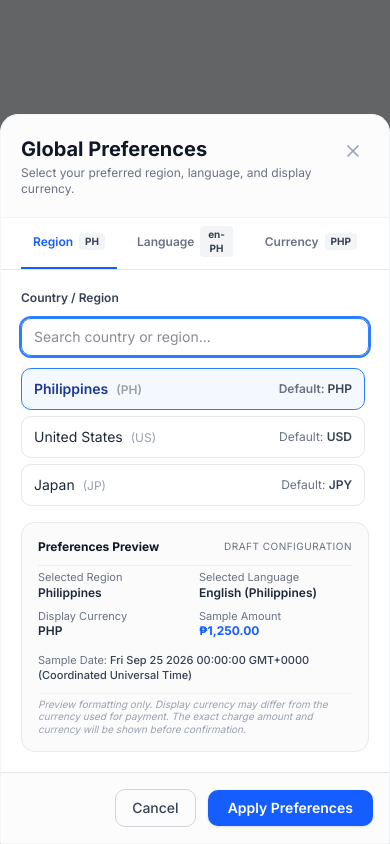
Test: GLCC-P2A — Global Preferences UI Foundation › 2. Control Independence & Financial Boundaries › 2.1. Changing language does not alter country or display currency
// Switch to Language tab
Click the tab "Language en-PH" at (185, 248), box [125,226,245,269]
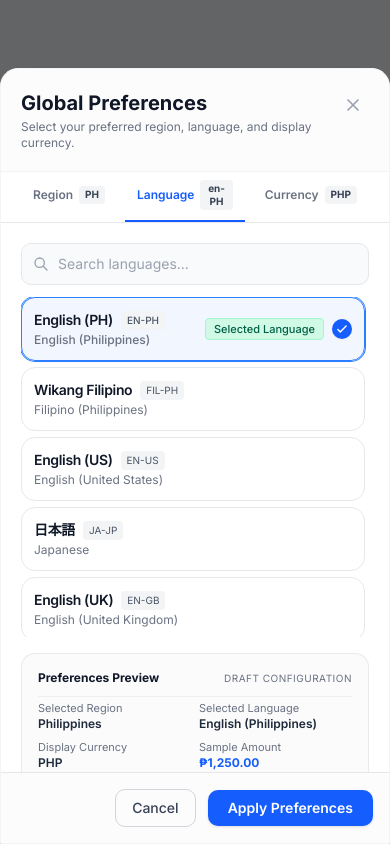
// Select 'Filipino (Philippines)'
Click the radio button labelled "Wikang Filipino fil-PH Filipino (Philippines)" at (83, 390), box [21,367,365,431]
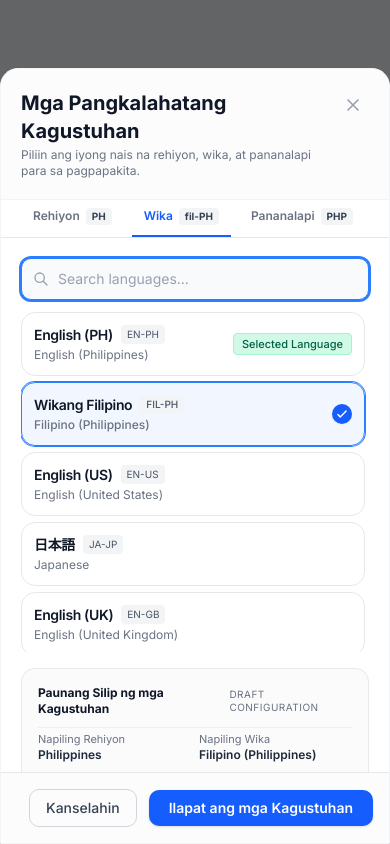
Expected: the tab with aria-label "Region" shows "PH", [21,208,124,237]
Result: the tab with aria-label "Language" shows "fil-PH" at [132,208,231,237]
